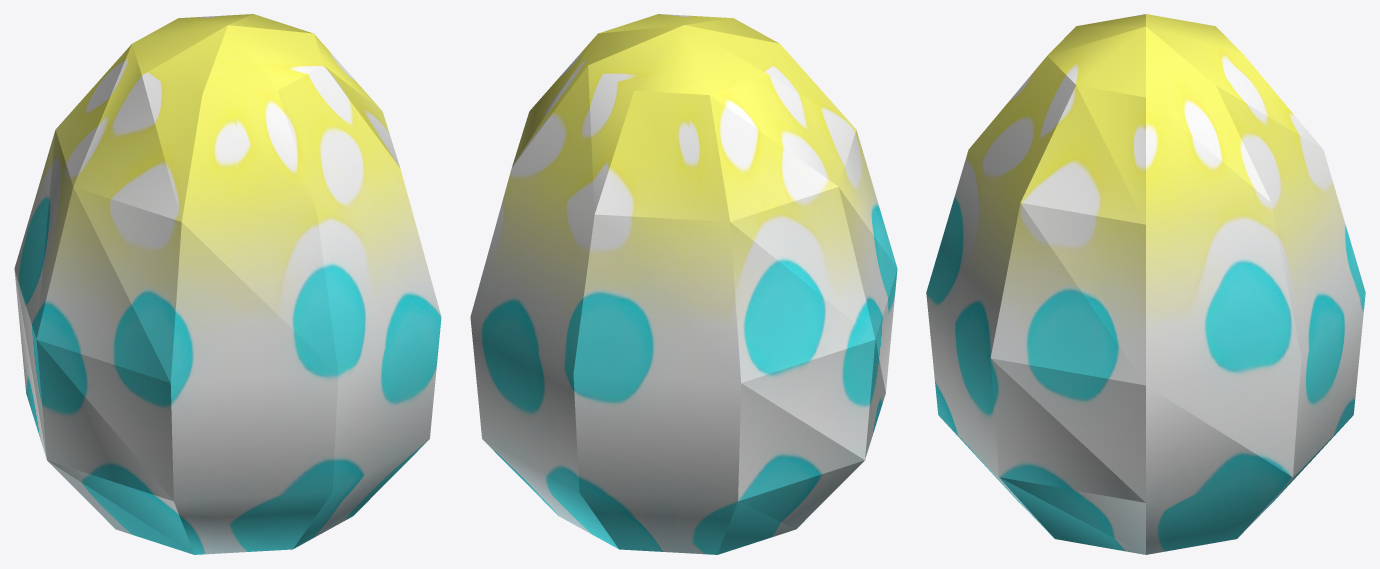
Rendered from Chao Egg.obj.
The picture shows the model from 3 angles, left to right: view 1: azimuth 30°, elevation 25°; view 2: azimuth 150°, elevation 25°; view 3: azimuth 270°, elevation 25°; orthographic projection.
Visible parts, largest first — view 1: Mesh_0071; view 2: Mesh_0071; view 3: Mesh_0071.
Part boxes in pixels (box(x1,y1,x2,y2)): Mesh_0071: box(14, 14, 441, 554); Mesh_0071: box(470, 14, 897, 554); Mesh_0071: box(926, 14, 1365, 554).
Size of the model in its own units: 4.26 by 5.35 by 4.26.
Materials: 1 (1 with a texture image).
